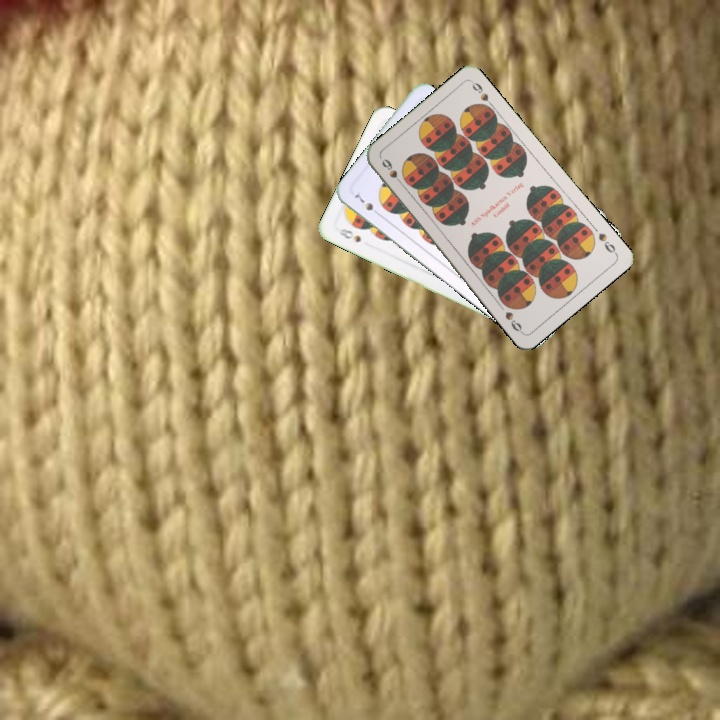S7: (350, 190, 383, 219)
S8: (335, 224, 364, 245)
S9: (378, 154, 407, 189), (594, 229, 620, 257)
